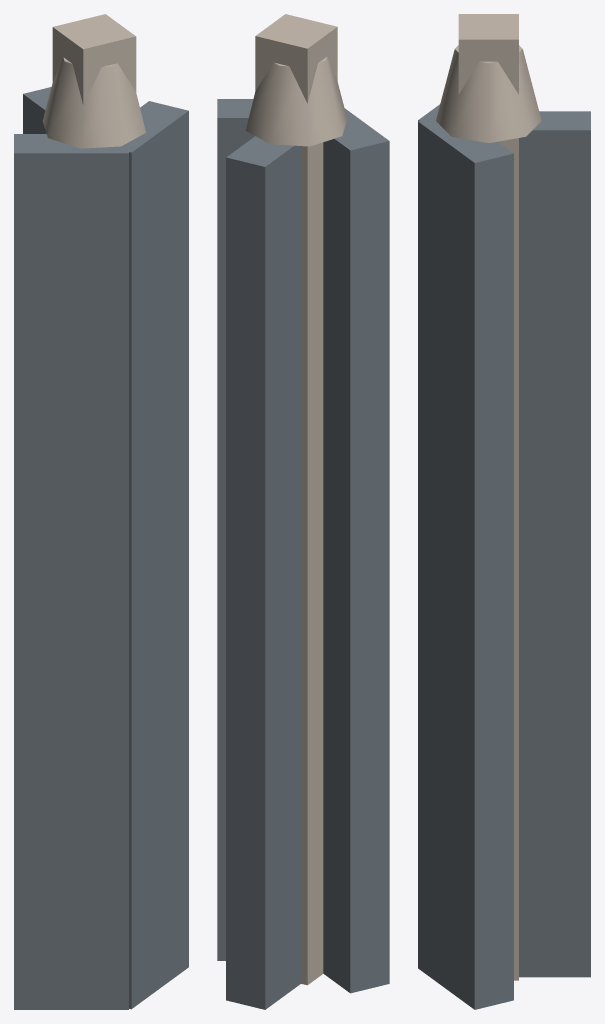
The model's file is tower42.glb.
3 views of the same model, side by side, from view 1: azimuth 30°, elevation 25°; view 2: azimuth 150°, elevation 25°; view 3: azimuth 270°, elevation 25° (orthographic).
Parts seen in each view (by area): view 1: tower42; view 2: tower42; view 3: tower42.
Part boxes in pixels (<box>): tower42: <box>14,14,188,1009</box>; tower42: <box>217,14,389,1009</box>; tower42: <box>418,14,590,1009</box>.
Size of the model in its own units: 0.474 by 2.47 by 0.4105.
